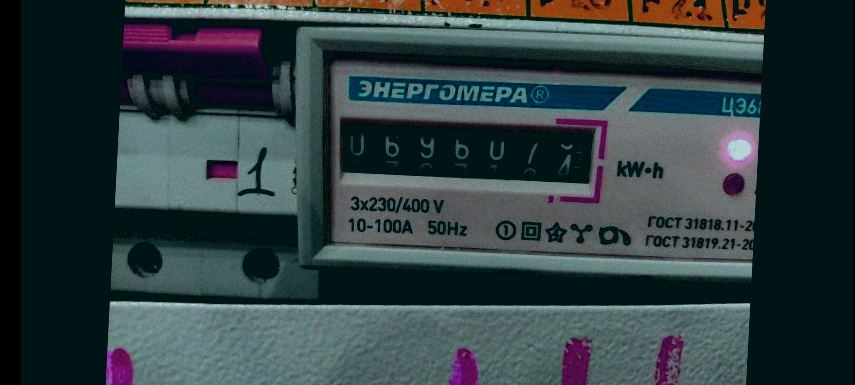0: (347, 126, 368, 157), (488, 130, 508, 161)
4: (554, 150, 574, 179)
6: (381, 127, 404, 158), (453, 131, 473, 160)
7: (523, 133, 541, 164)
9: (418, 130, 437, 160)
screen: (321, 98, 610, 203)
